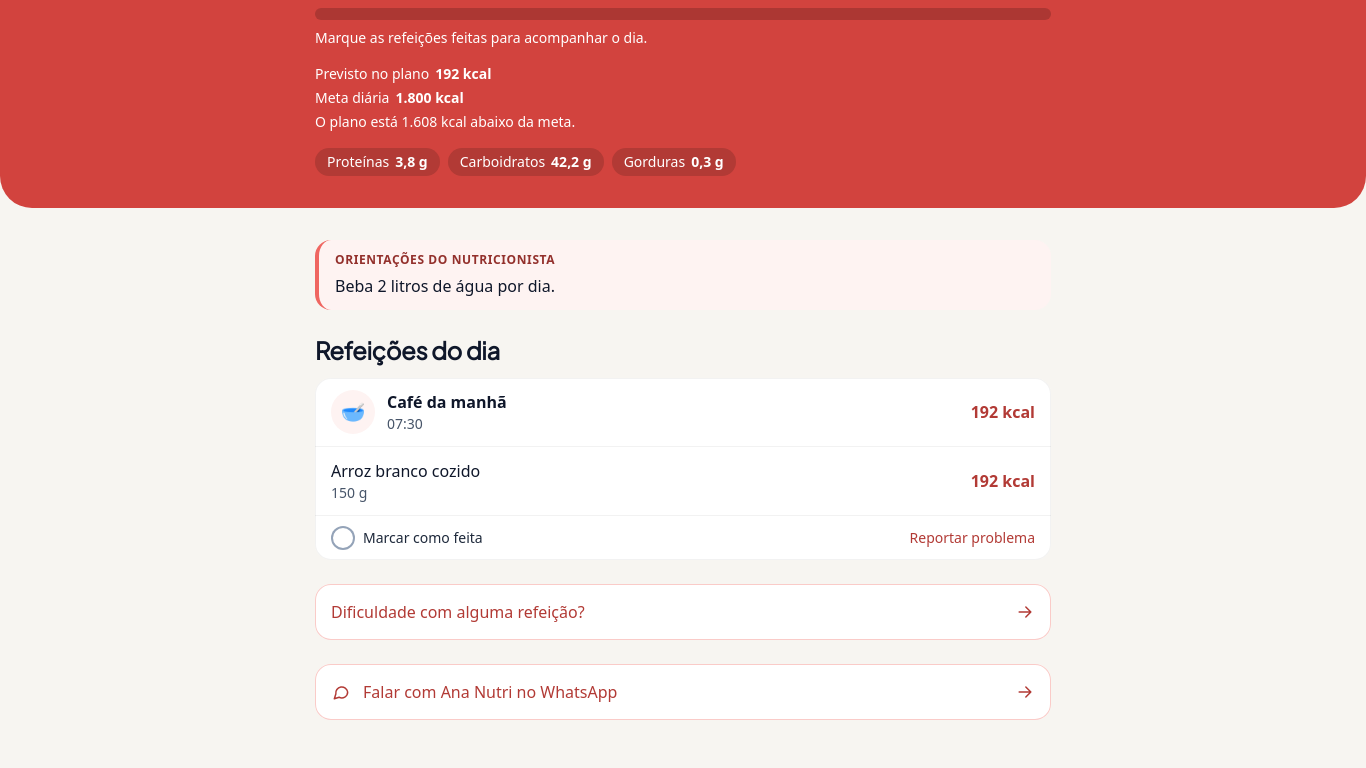
Scenario: MeuPlano — refeição feita (UC-03) › a barra acompanha cada toque: marca soma, desmarca tira
This screenshot has width=1366, height=768.
(page scrolled)
Click the button named "Marcar como feita : Café da manhã" at (407, 538), box left=315, top=516, right=499, bottom=560
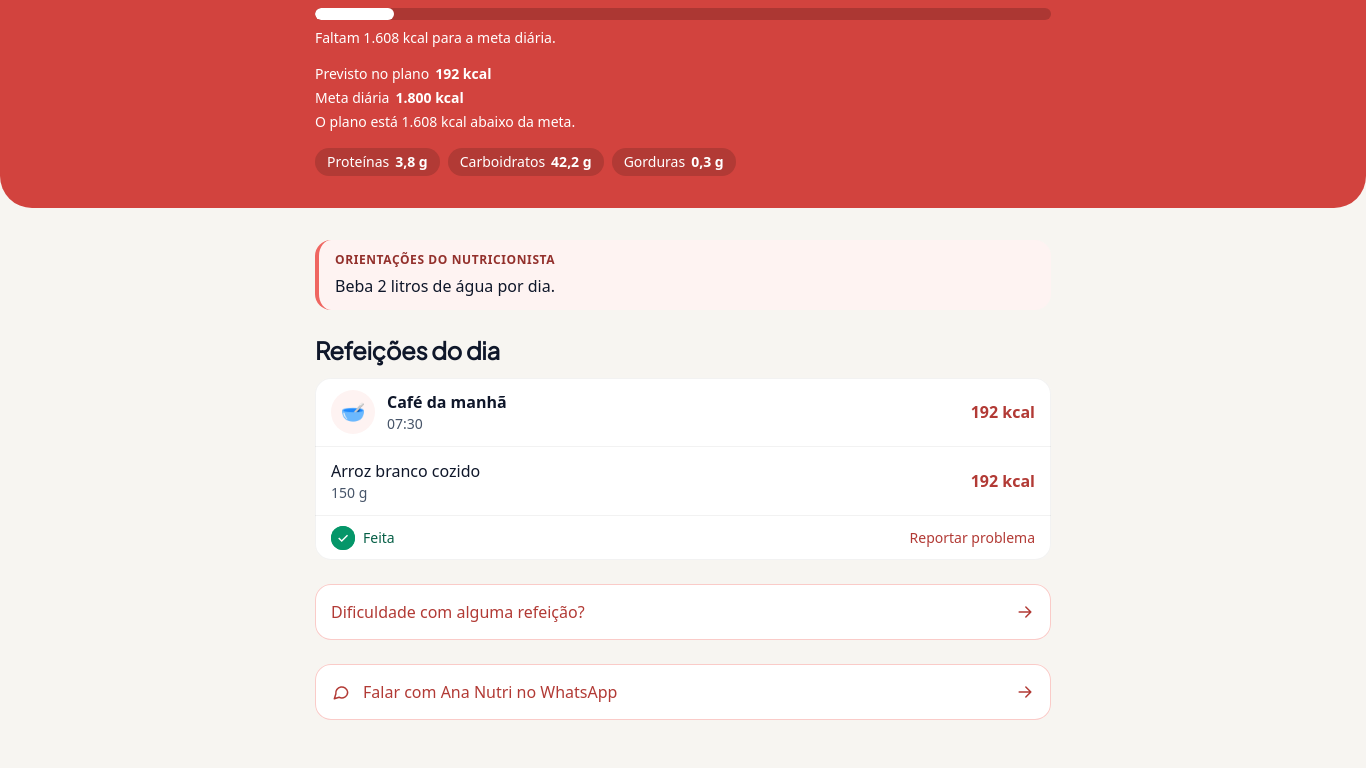
Click the button named "Feita : Café da manhã" at (363, 538), box left=315, top=516, right=411, bottom=560
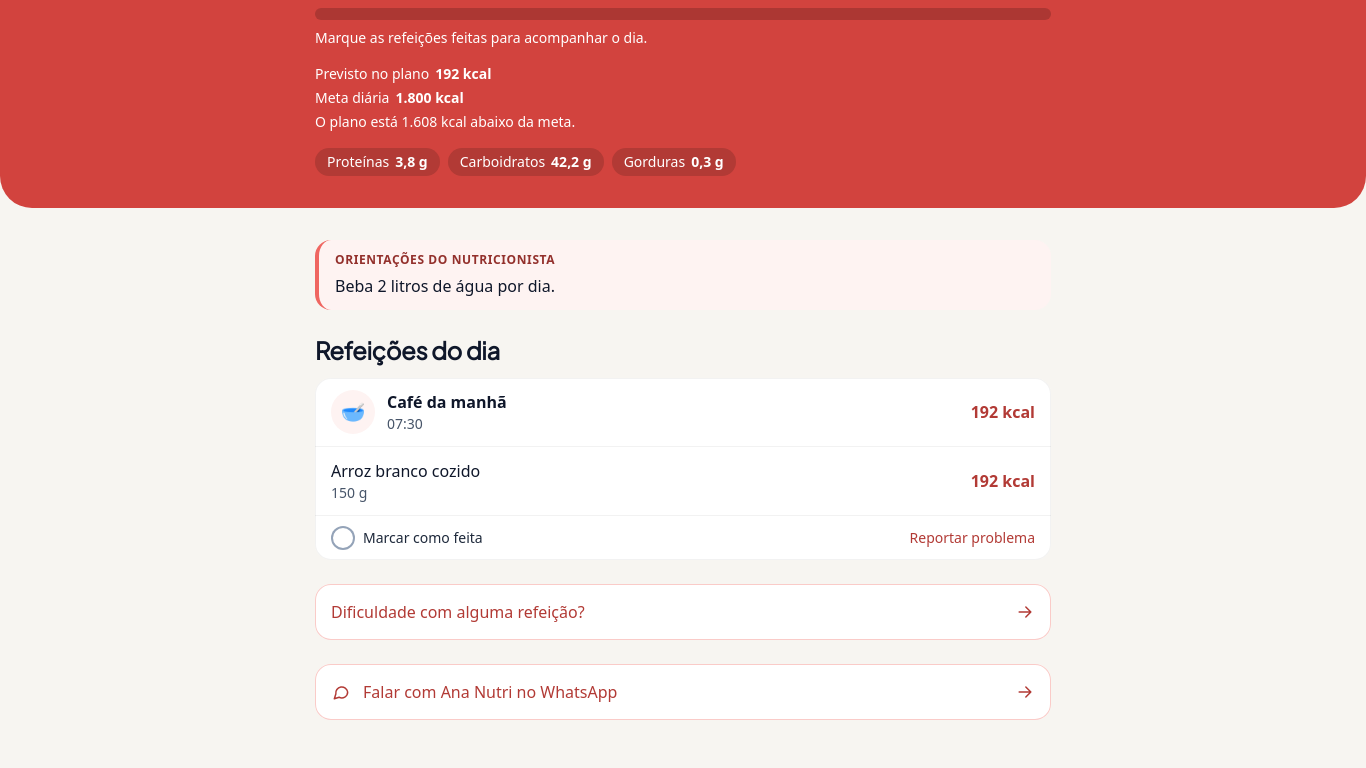
Expected: the text "Marque as refeições feitas para acompanhar o dia." is shown, left=315, top=28, right=647, bottom=47
